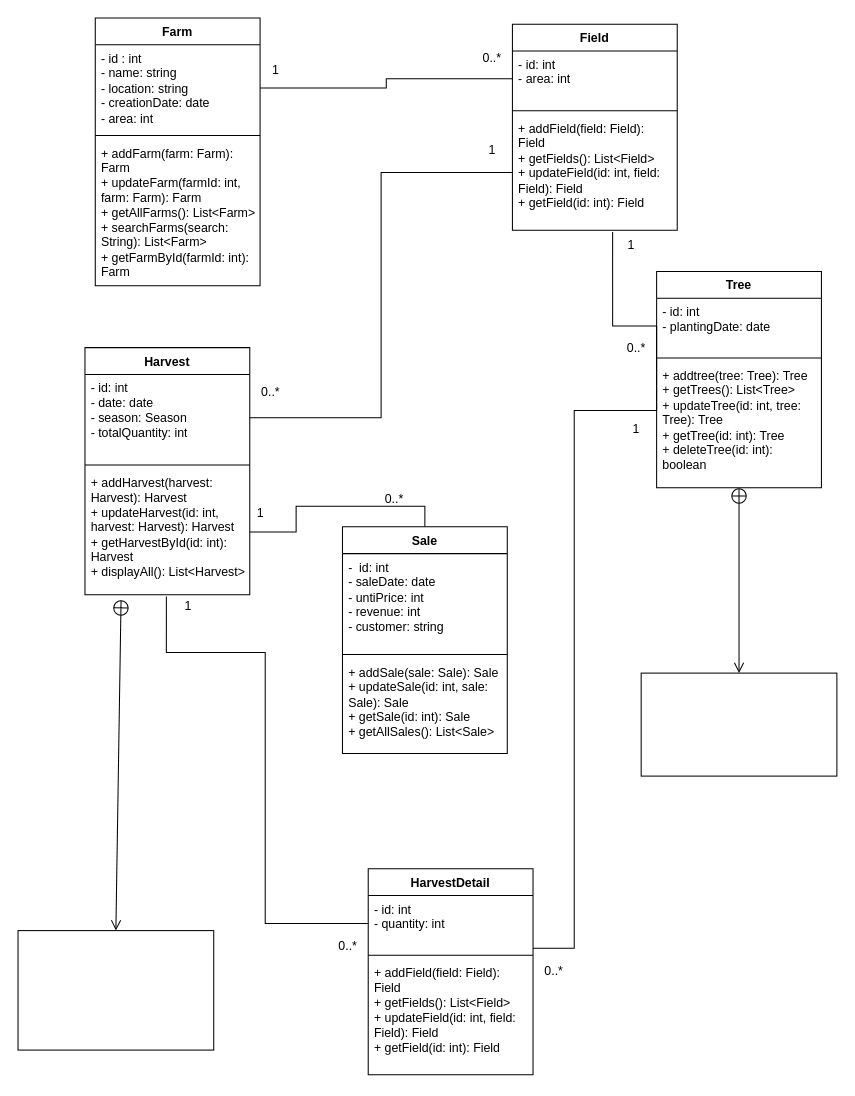
Image size: 855x1096. Some labels were removed from this diagram. Each missing label, with the centre of its shape:
<<enum>> Season WINTER SPRING SUMMER AUTUMN: (115,990)
<<enum>> TreeStatus OLD YOUNG MATURE: (738,724)
